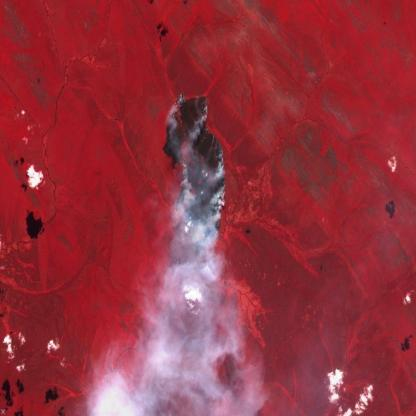fire: (167, 90, 227, 257)
